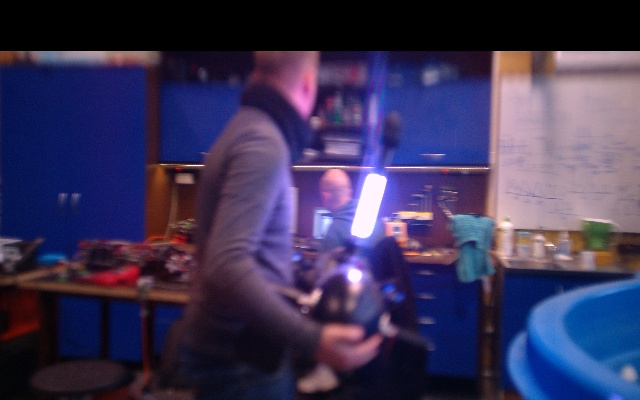white: (351, 173, 387, 238)
